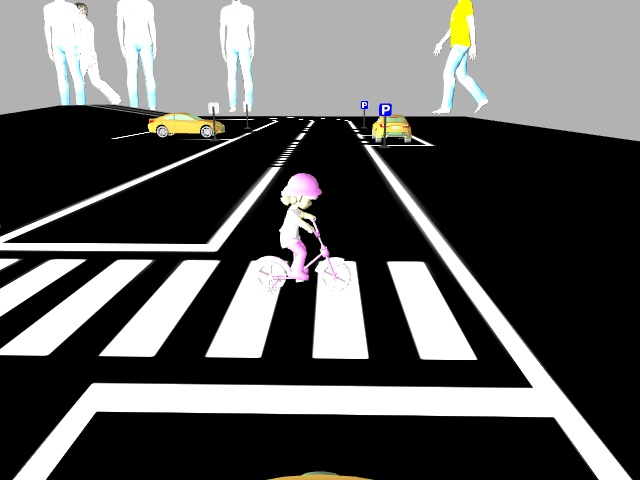Parking: (377, 102, 392, 116), (360, 99, 368, 110)
Pedestrian: (240, 171, 357, 295)
